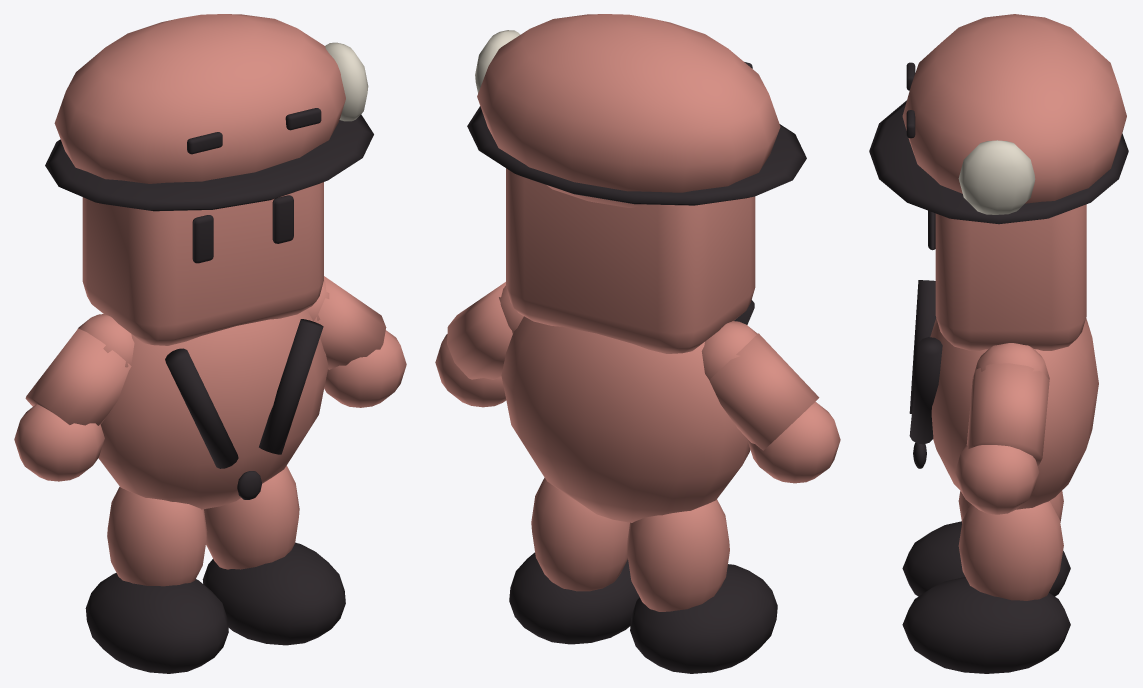
File: wurstii-rockford.glb
3 renders of one model, left to right at view 1: azimuth 30°, elevation 25°; view 2: azimuth 150°, elevation 25°; view 3: azimuth 270°, elevation 25°, orthographic. The views are drawn at different scales.
Visible parts, largest first — view 1: wurstii-rockford_geometry; view 2: wurstii-rockford_geometry; view 3: wurstii-rockford_geometry.
Part boxes in pixels (box(x1,y1,x2,y2)): wurstii-rockford_geometry: box(14, 14, 406, 673); wurstii-rockford_geometry: box(435, 14, 840, 673); wurstii-rockford_geometry: box(869, 14, 1128, 673).
Bounding box in the file's own units: 0.54 × 0.8231 × 0.3223.
